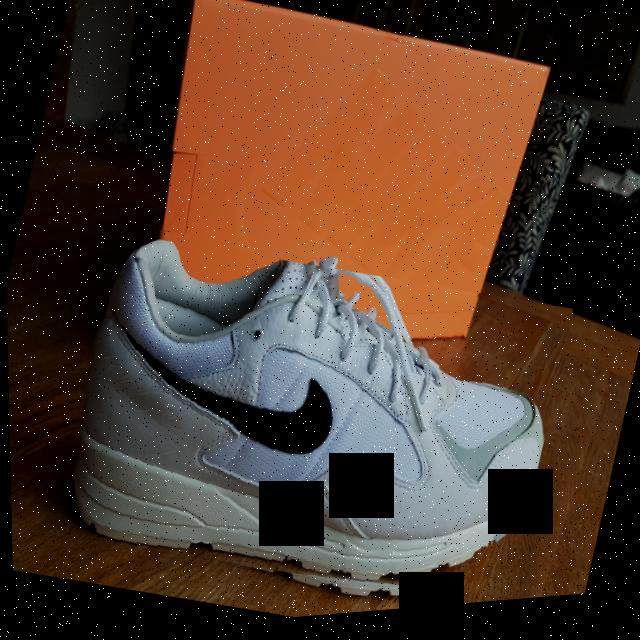shoe: (35, 204, 576, 638)
